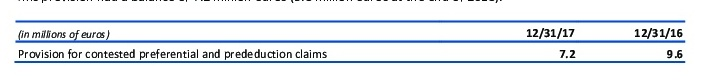table: (0, 0, 702, 81)
